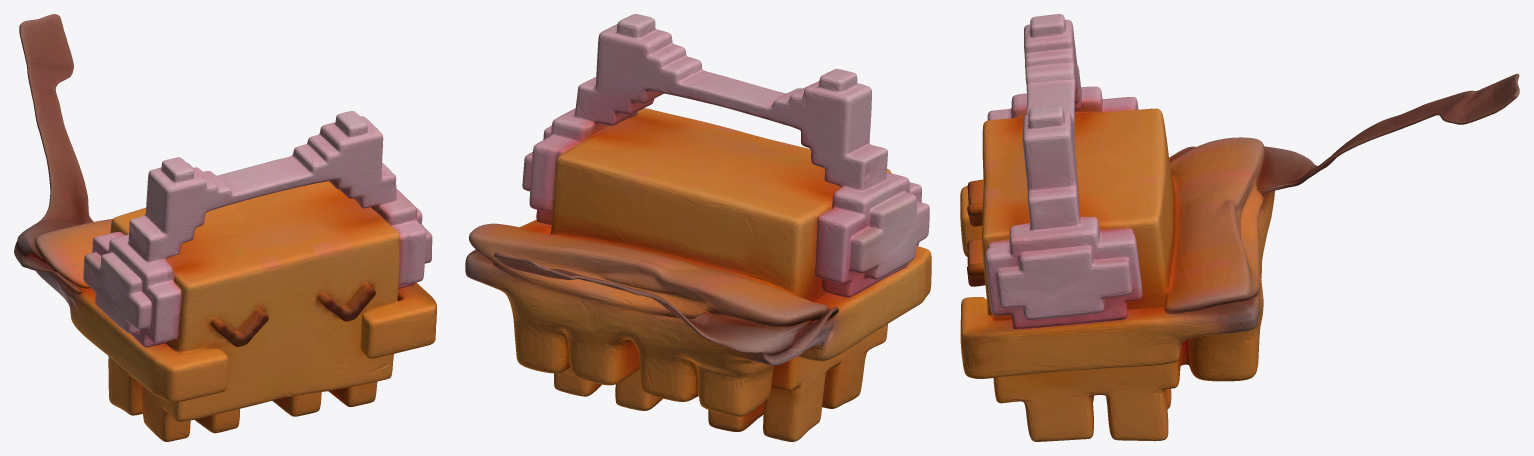
The model's file is clawd5.glb.
3 renders of one model, left to right at view 1: azimuth 30°, elevation 25°; view 2: azimuth 150°, elevation 25°; view 3: azimuth 270°, elevation 25°, orthographic. The views are drawn at different scales.
Parts seen in each view (by area): view 1: geometry_0; view 2: geometry_0; view 3: geometry_0.
Part boxes in pixels (x1,y1,x2,y2): geometry_0: (14,14,436,441); geometry_0: (465,14,931,441); geometry_0: (960,14,1519,441).
Size of the model in its own units: 0.6987 by 0.6406 by 1.
Materials: 1 (1 with a texture image).
